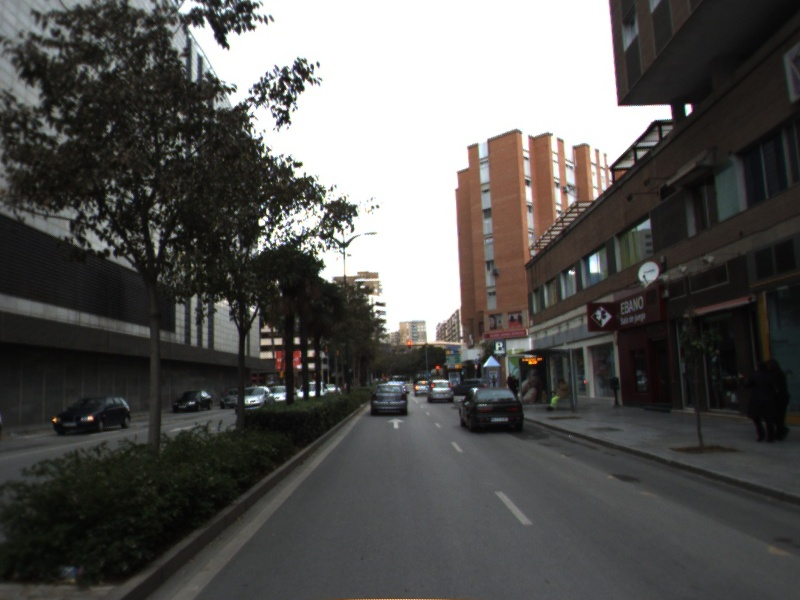STRAIGHT: (385, 416, 407, 430)
